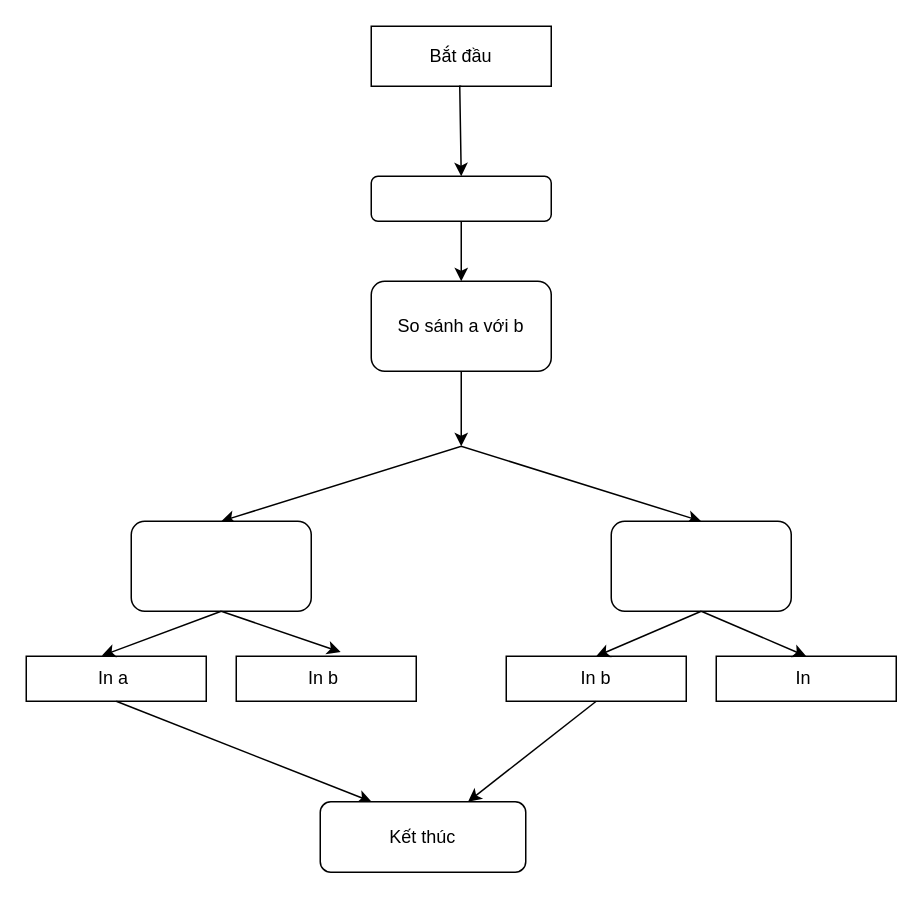
This 923x899 diagram has some shape labels left out. Here are the shapes that lost their labels. From the top down, the box of each, then its label:
(370, 175, 551, 221): Nhập số a và b
(130, 520, 311, 611): a < b ?
(610, 520, 791, 611): a >= b ?
